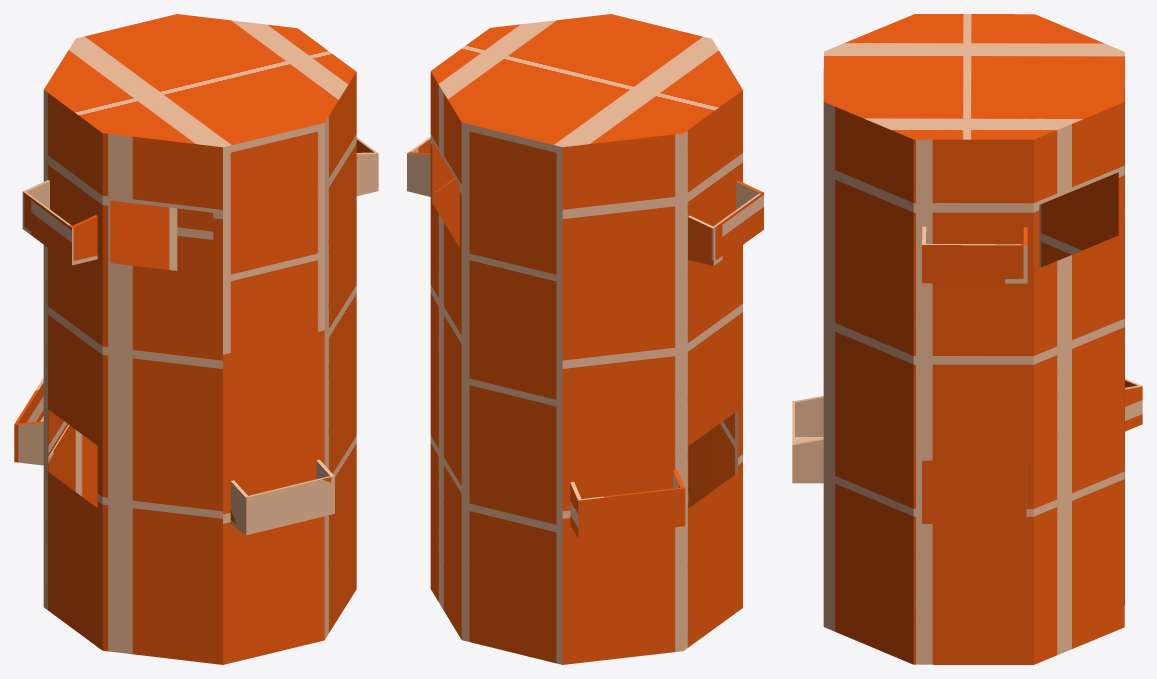
The model's file is 8gen_bina 1.fbx.
The picture shows the model from 3 angles, left to right: view 1: azimuth 30°, elevation 25°; view 2: azimuth 150°, elevation 25°; view 3: azimuth 270°, elevation 25°; orthographic projection.
Parts seen in each view (by area): view 1: Cube.004; view 2: Cube.004; view 3: Cube.004.
Part boxes in pixels (<box>): Cube.004: <box>14,14,378,664</box>; Cube.004: <box>407,14,763,664</box>; Cube.004: <box>792,14,1142,664</box>.
Size of the model in its own units: 240 by 388 by 235.
